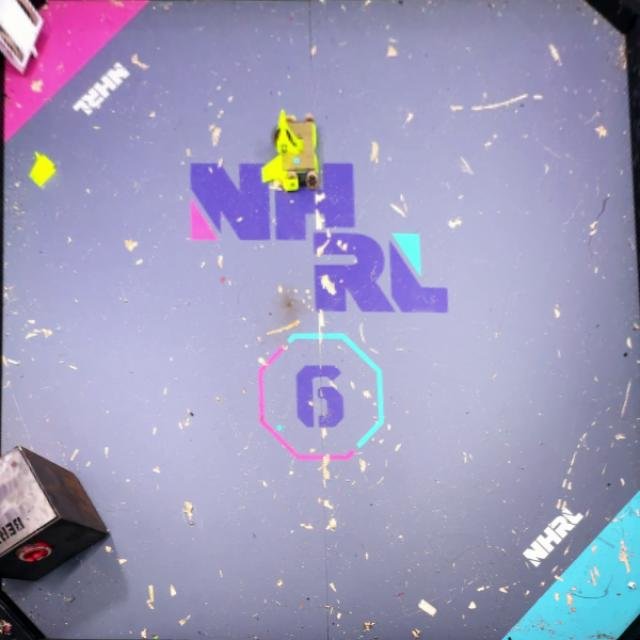housebot: (0, 445, 109, 582)
robot: (261, 110, 321, 192), (0, 0, 44, 75)
